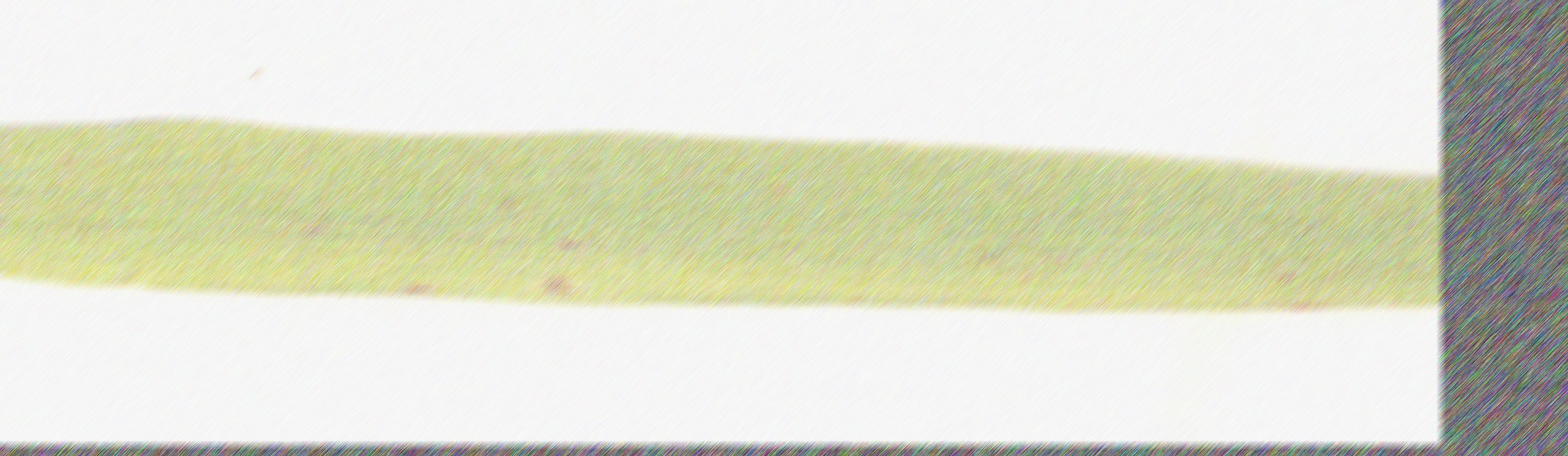Bacterial_Leaf_Blight: (507, 210, 611, 301), (725, 155, 800, 200), (965, 250, 1081, 271), (396, 263, 441, 308), (277, 217, 334, 242), (1265, 259, 1301, 292)
